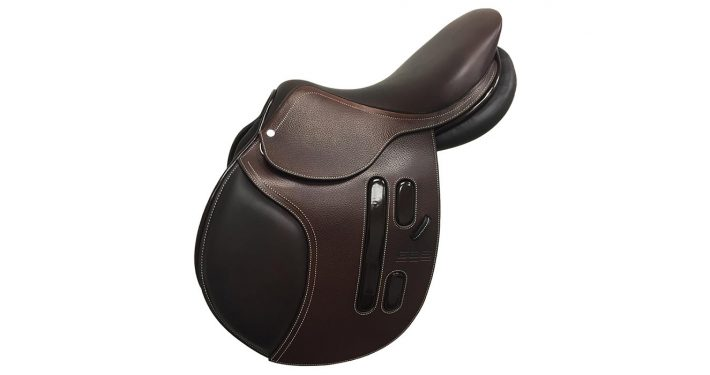saddle: (131, 3, 520, 352)
